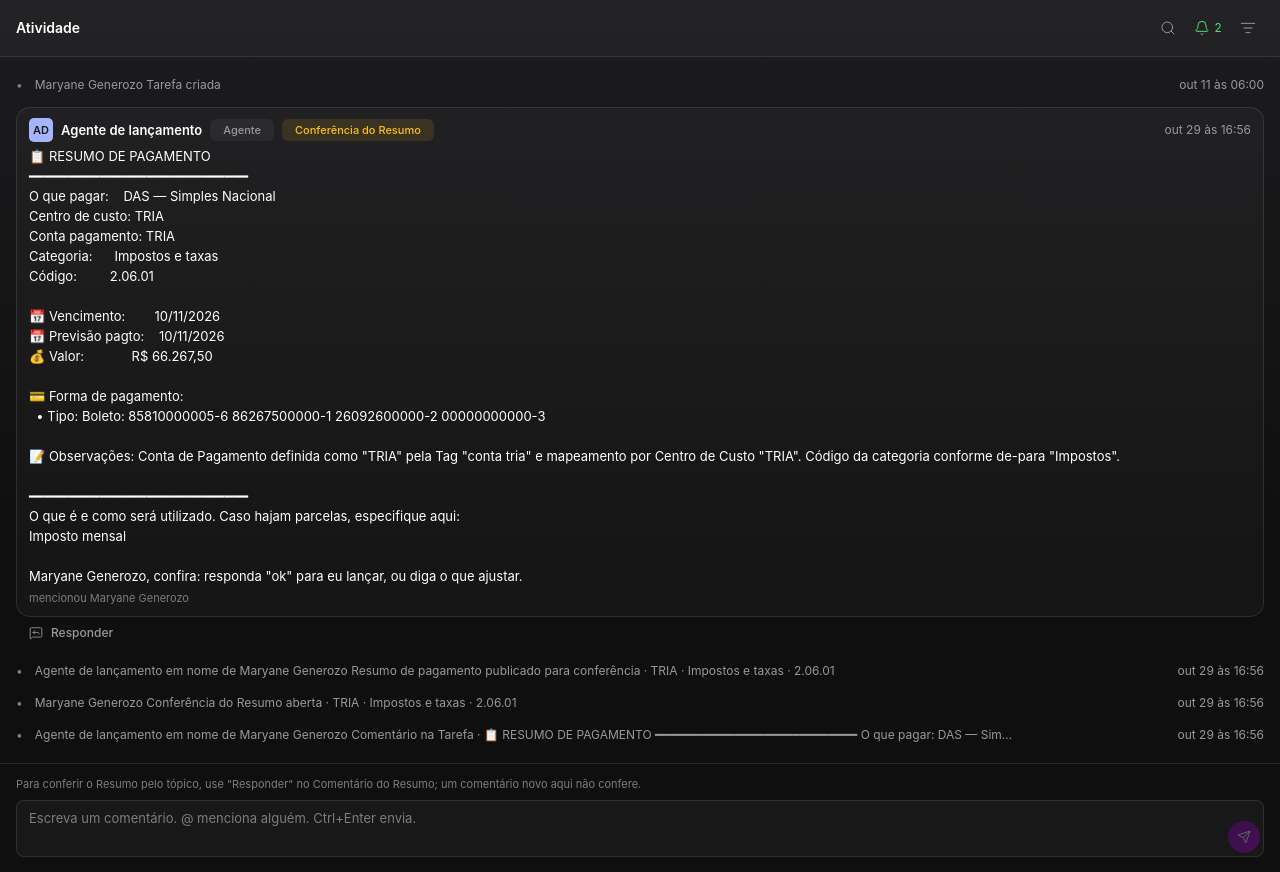
Scenario: (i) os três desfechos do envio › na falha do servidor, o rascunho fica e o erro aparece dentro do compositor de resposta
Click the button "Responder".
click(71, 633)  # box [16, 617, 126, 649]
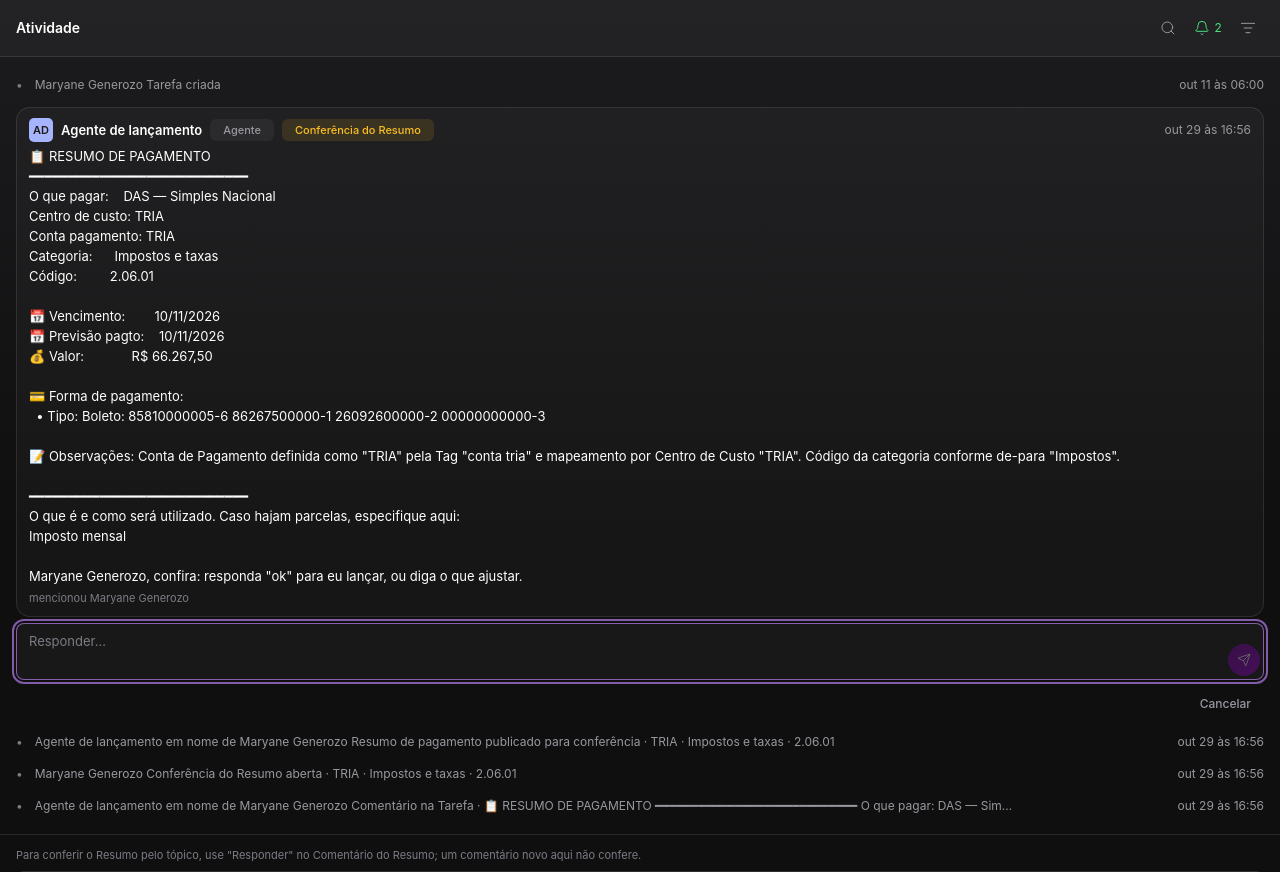
Type "ok" into the text box named "Resposta no fio".
click(640, 652); type("ok")  # box [16, 623, 1264, 680]
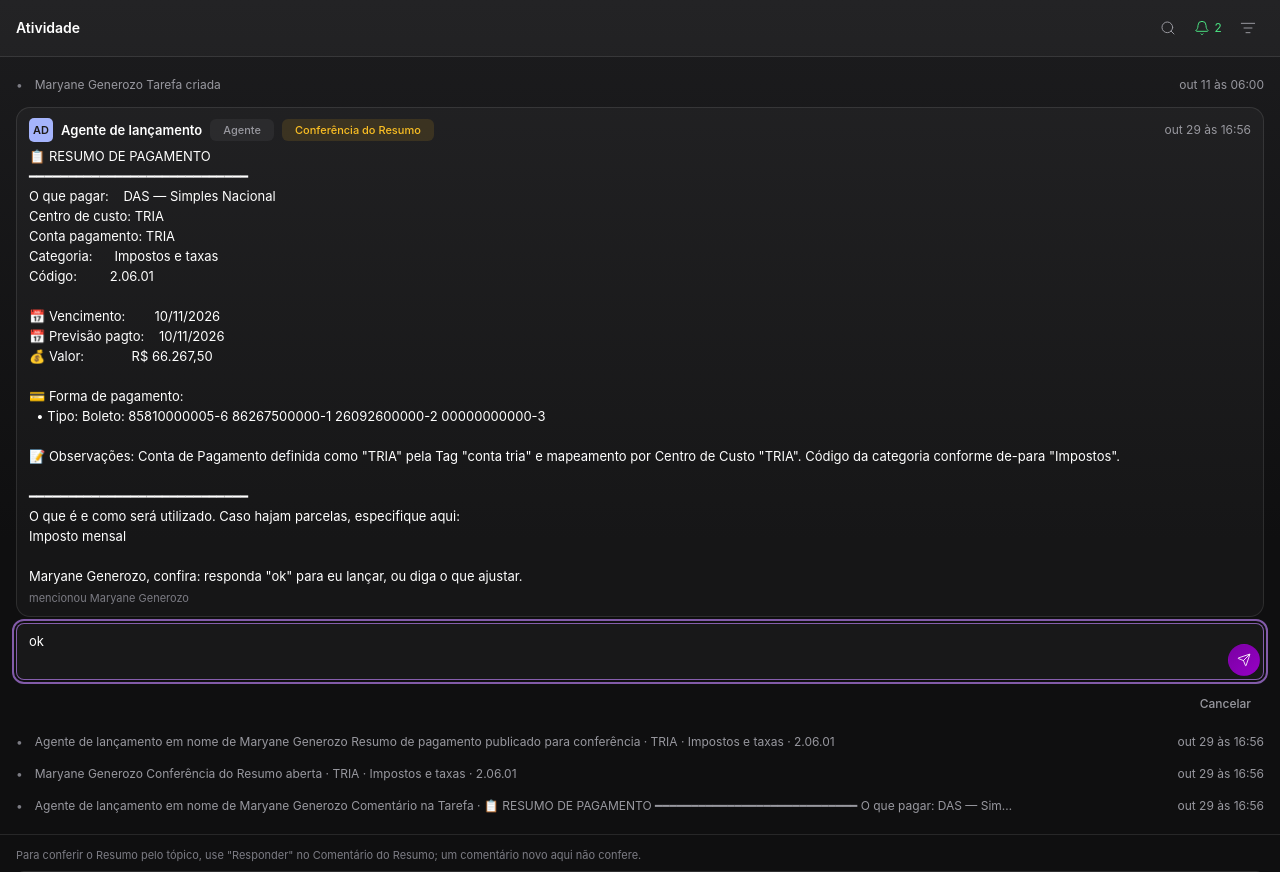
Press Enter in the text box named "Resposta no fio", box [16, 623, 1264, 680]
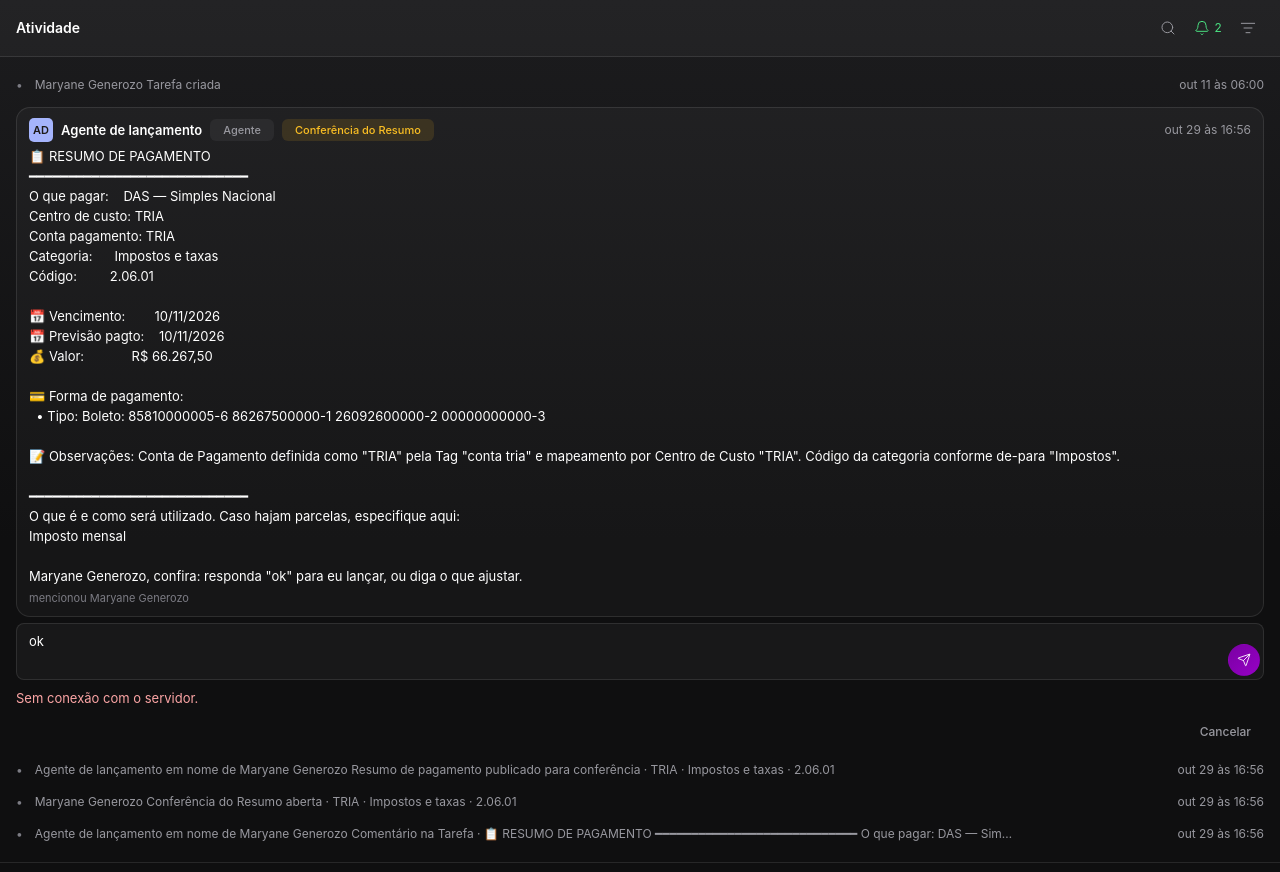
Now the message reads "Sem conexão com o servidor.", box [16, 690, 198, 706]
